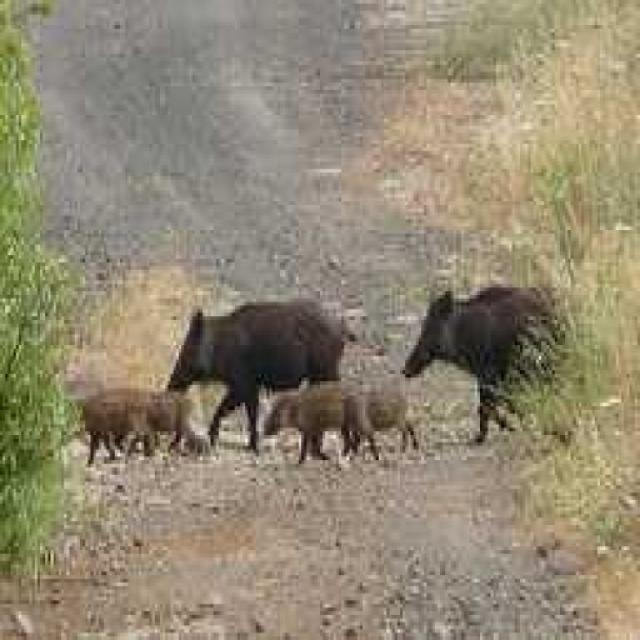pig: (388, 259, 616, 448), (147, 278, 338, 419), (250, 371, 396, 486), (72, 362, 202, 477), (347, 373, 413, 454)
